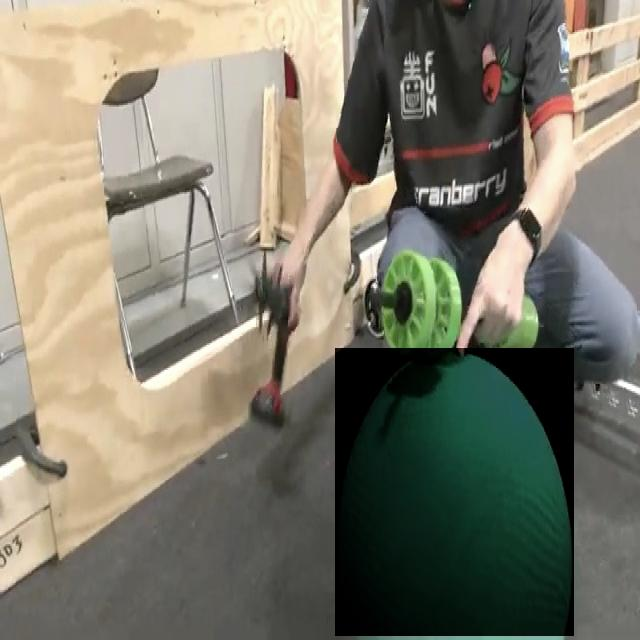Algae: (335, 348, 574, 636)
